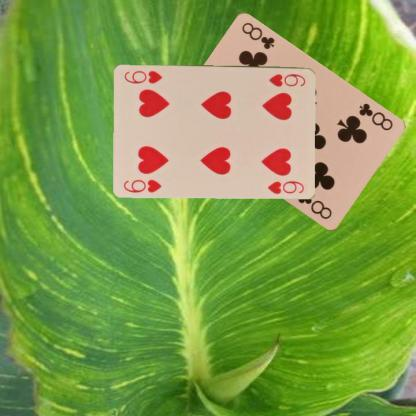6h: (121, 176, 163, 194), (266, 71, 307, 88)
8c: (355, 100, 394, 132)
